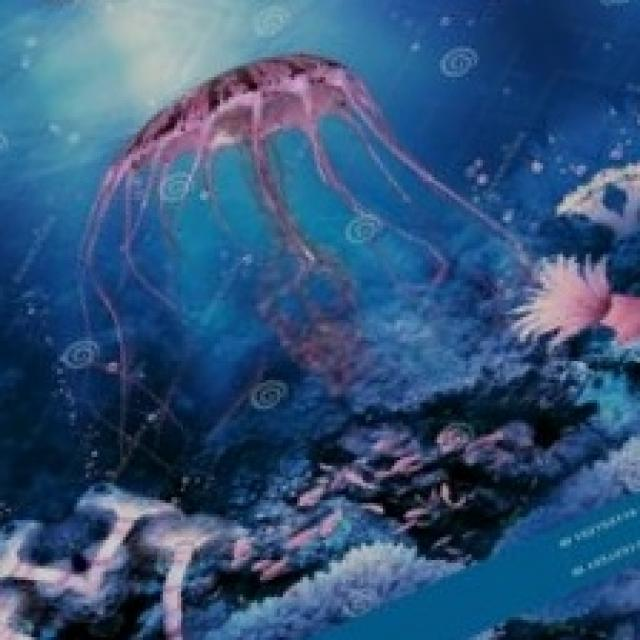Jellyfish: (69, 49, 534, 480)
